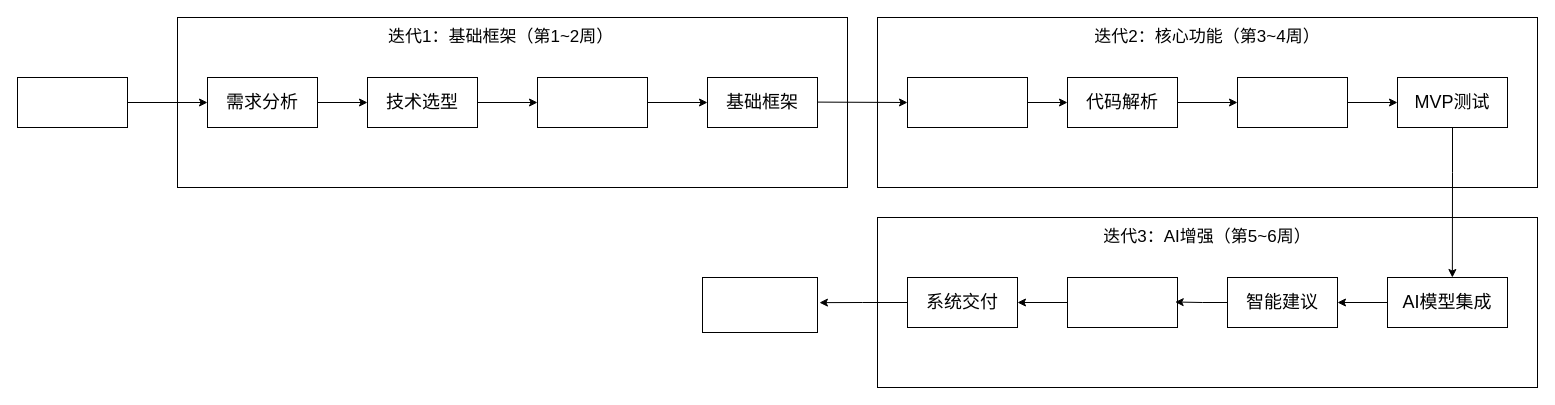
This 1555x405 diagram has some shape labels left out. Here are the shapes that lost their labels. From the top down, the box of each, then its label:
(16, 76, 128, 128): 项目启动
(536, 76, 648, 128): 环境搭建
(906, 76, 1028, 128): 规划引擎集成
(1236, 76, 1348, 128): 基础检查
(702, 276, 818, 332): 项目完成
(1066, 276, 1178, 328): 界面优化
